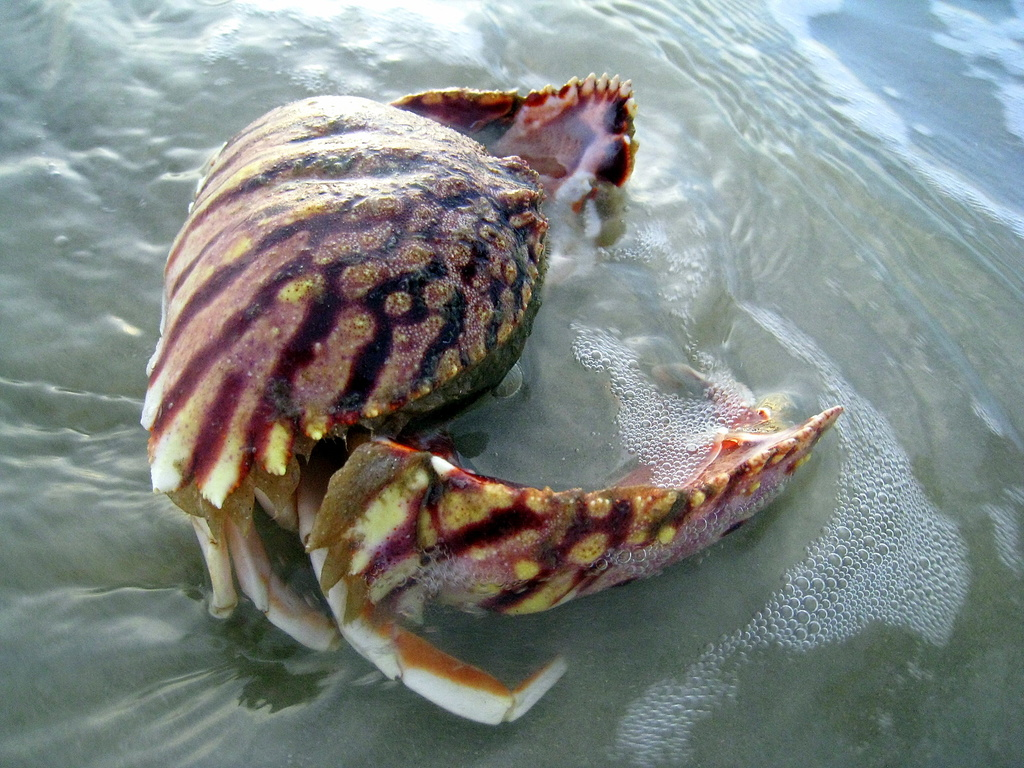person: (489, 70, 646, 257)
